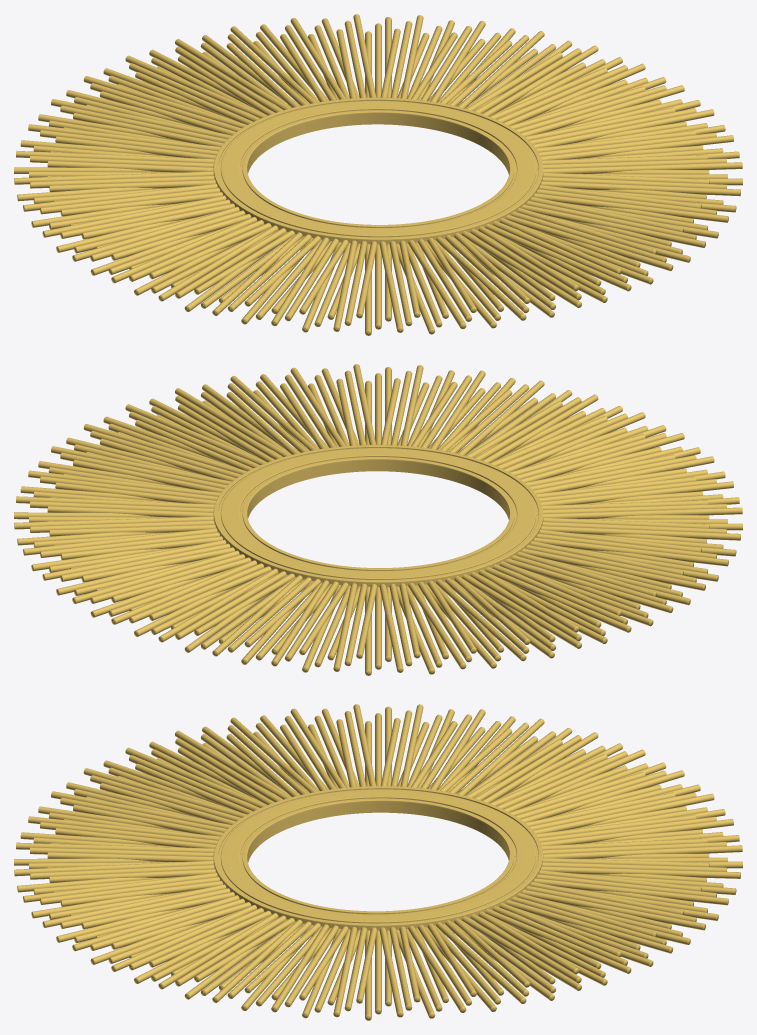
Rendered from miroir_t.fbx.
3 views of the same model, one above another, from view 1: azimuth 30°, elevation 25°; view 2: azimuth 150°, elevation 25°; view 3: azimuth 270°, elevation 25° (orthographic).
Parts seen in each view (by area): view 1: Mirror; view 2: Mirror; view 3: Mirror.
Part boxes in pixels (x1=…): Mirror: x1=14, y1=14, x2=742, y2=335; Mirror: x1=14, y1=364, x2=742, y2=675; Mirror: x1=14, y1=704, x2=742, y2=1020.
Bounding box in the file's own units: 147 × 3.39 × 147.
